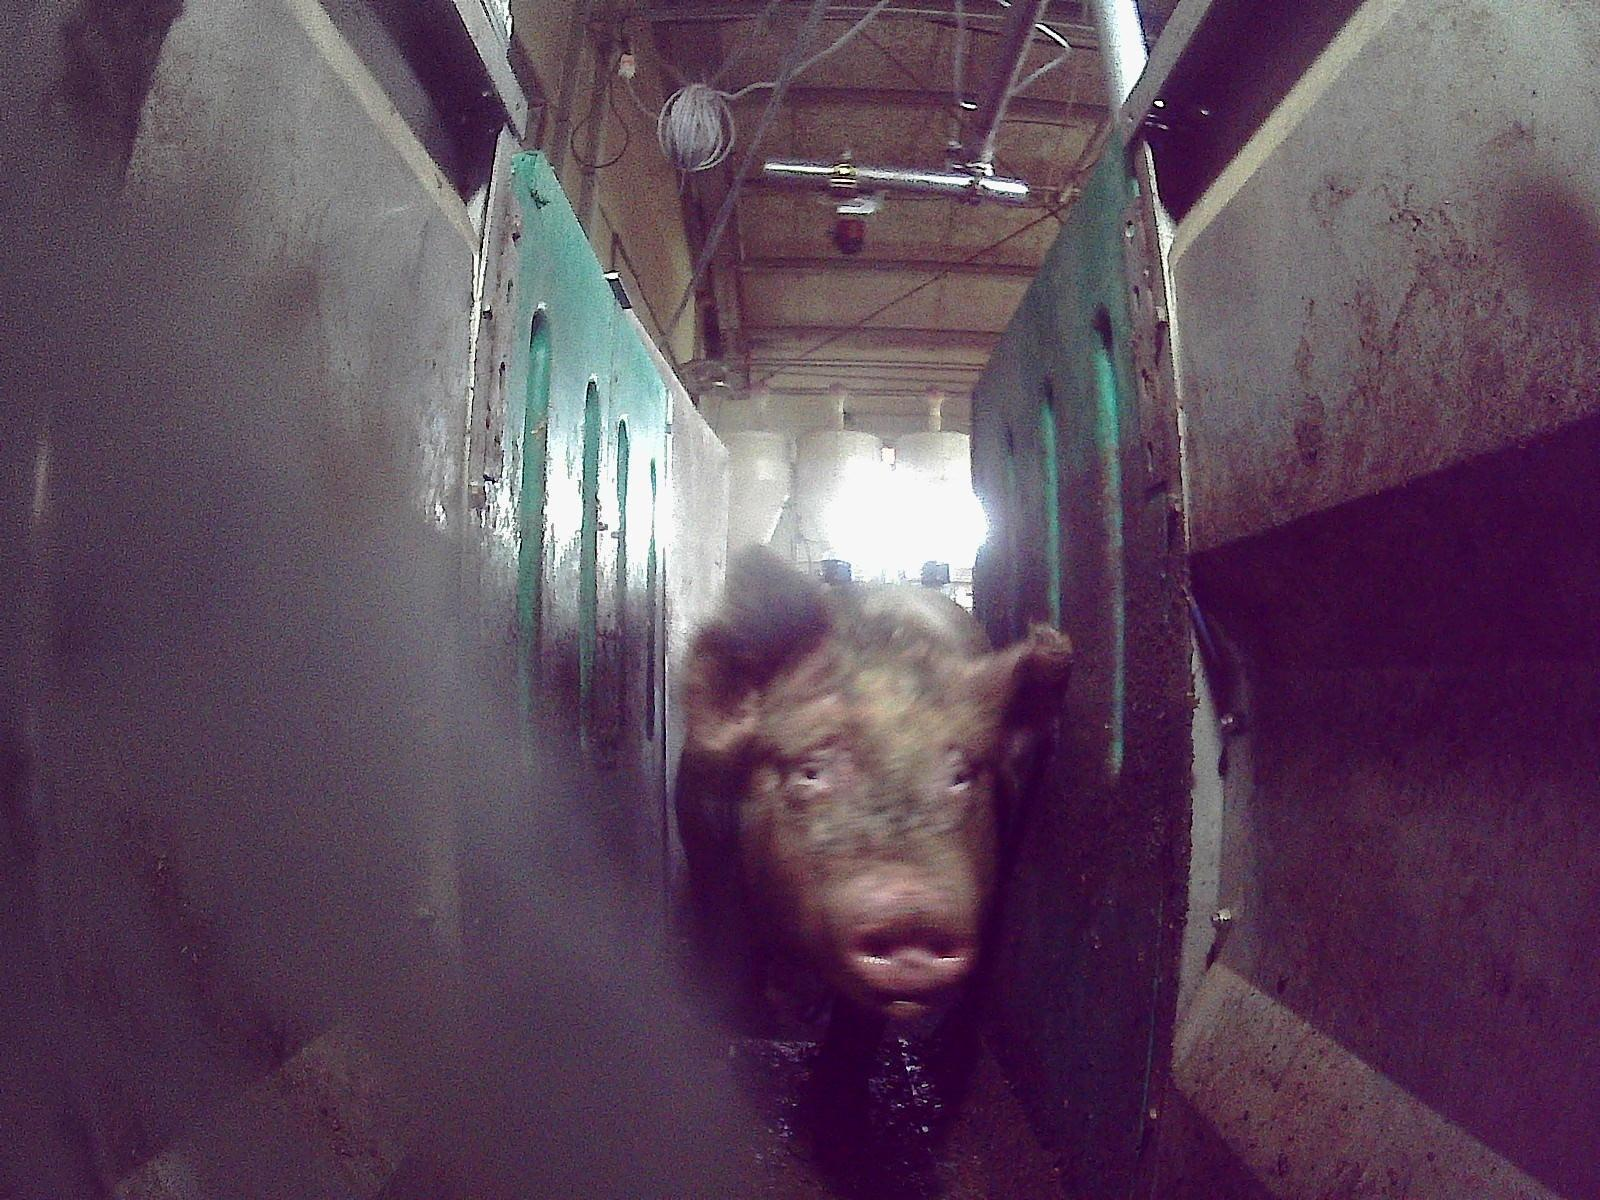Face: (744, 653, 1005, 1017)
